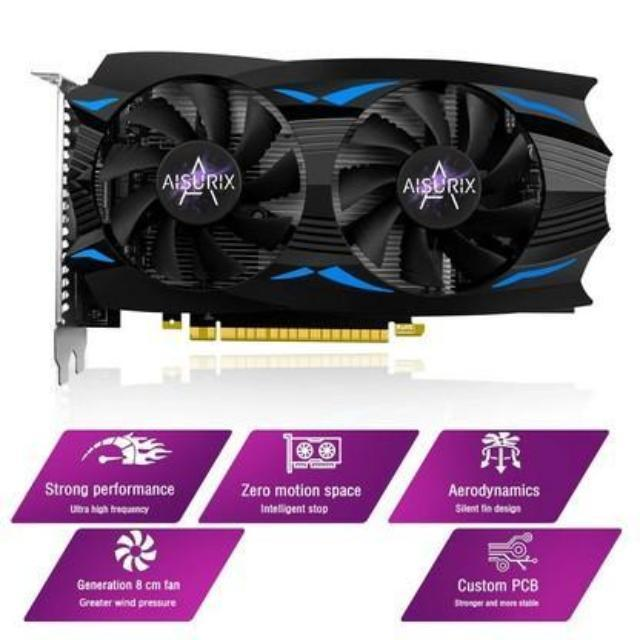GPU: (62, 41, 616, 339)
